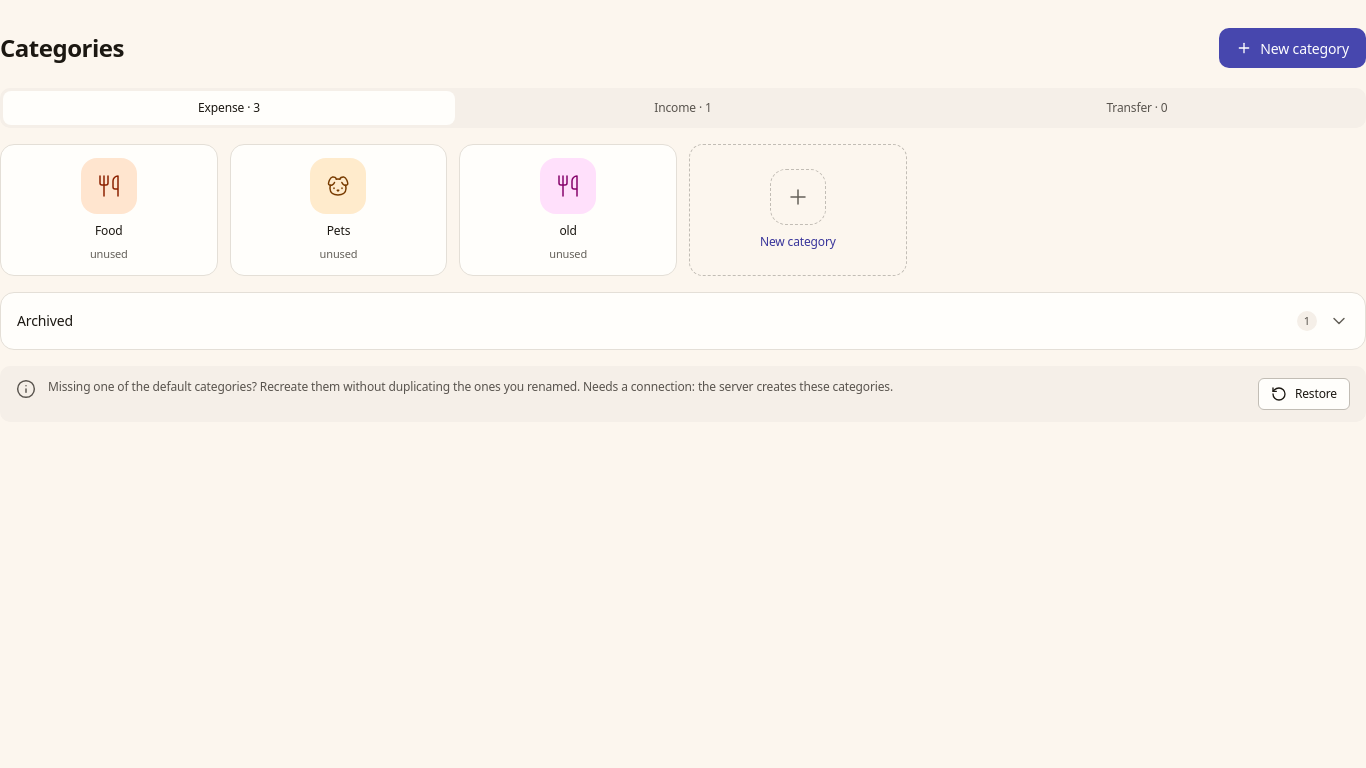
Test case: CategoriesView › restores an archived category and, on a 409, restores it under a new name
This screenshot has width=1366, height=768.
Click the button "Archived 1".
click(45, 320)  # box [1,293,1365,349]
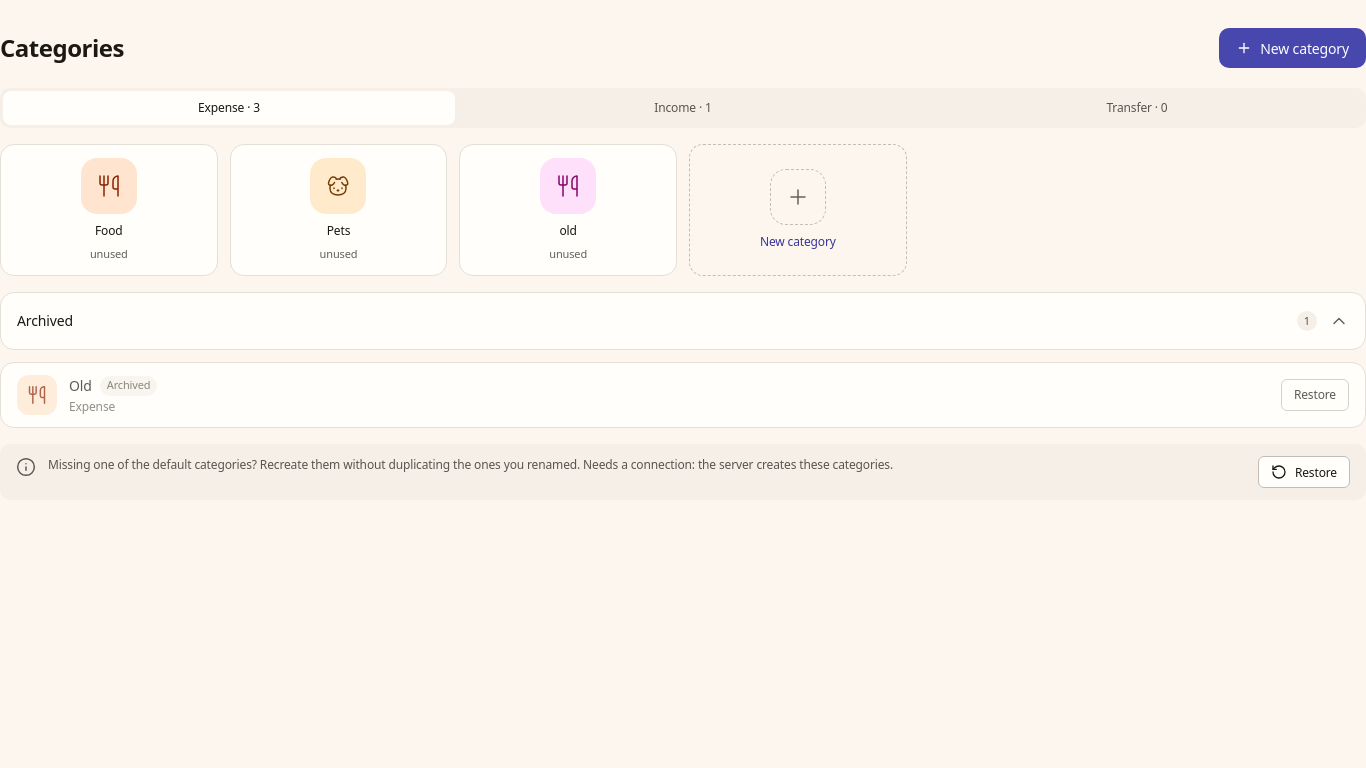
Click the button named "Restore Old".
click(1315, 395)  # box [1281,379,1349,411]
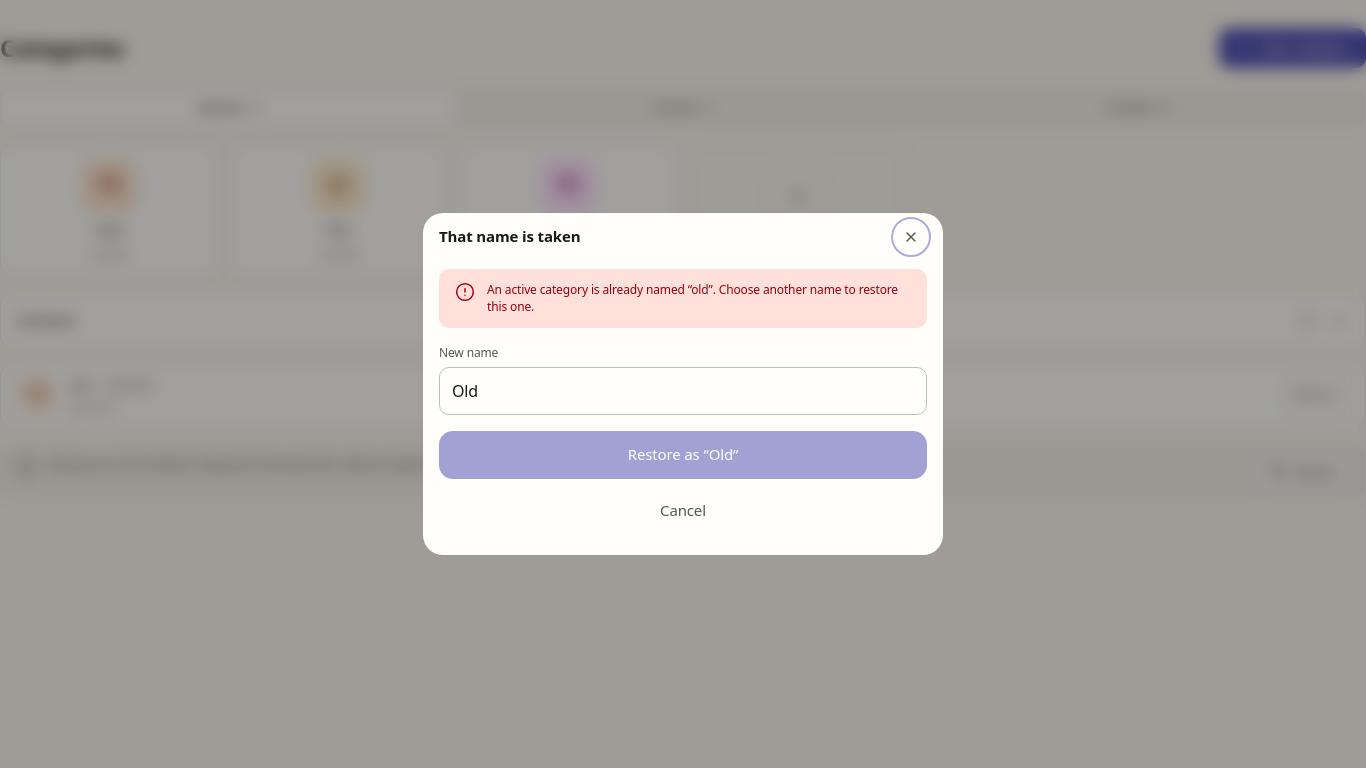
Result: the dialog "That name is taken" shows "An active category is already named “old”." at [487,281,898,315]
Replace the text in the field labelled "New name" with "Old trips" at (683, 391), box [439,367,927,415]
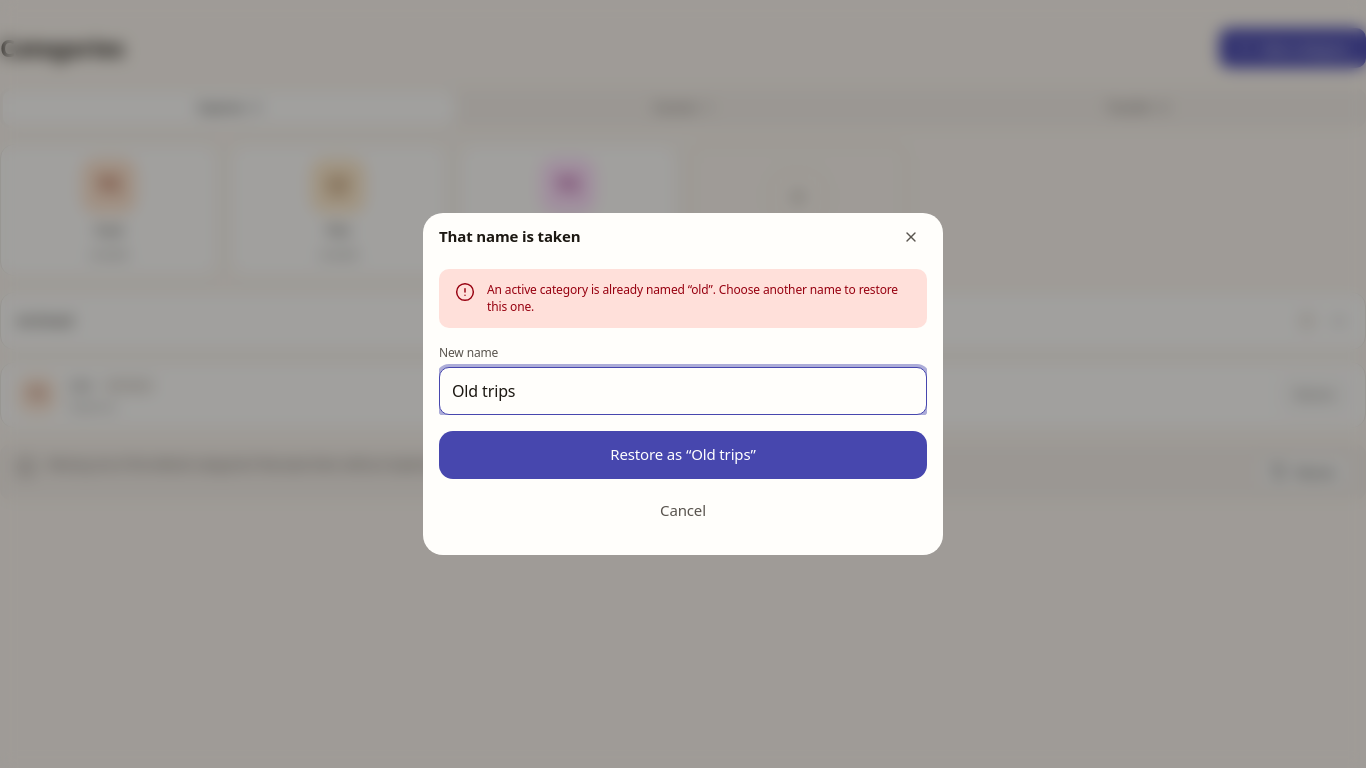
Click the 1st button named "Restore as “Old trips”".
click(683, 455)  # box [439,431,927,479]
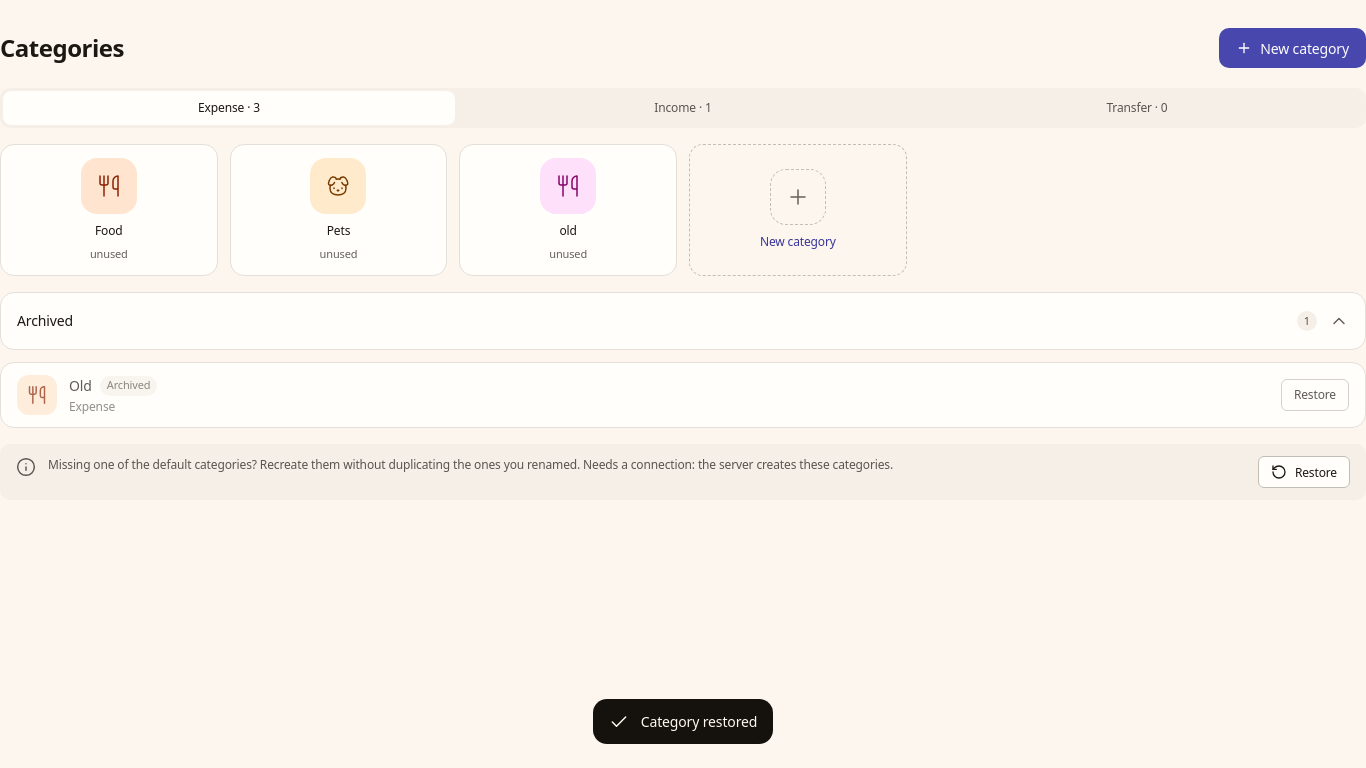
Result: the text "Category restored" is shown at [593,699,773,744]
